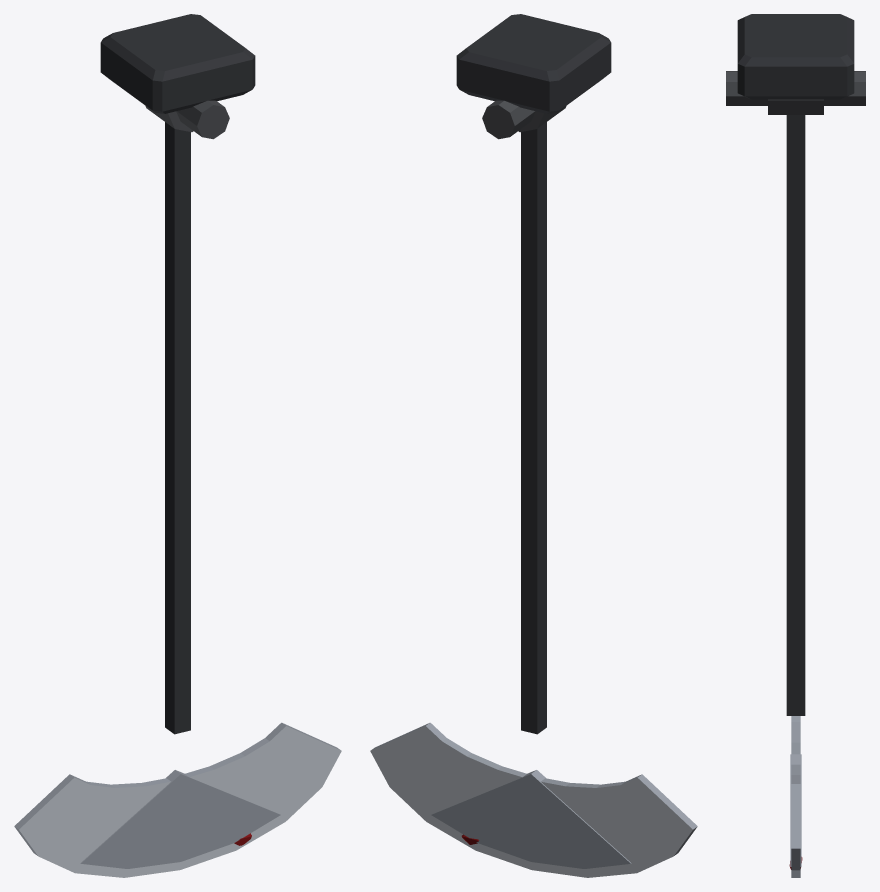
File: SM_Trap_Pendolo.glb
3 views of the same model, side by side, from view 1: azimuth 30°, elevation 25°; view 2: azimuth 150°, elevation 25°; view 3: azimuth 270°, elevation 25° (orthographic).
Parts seen in each view (by area): view 1: Pendulum_Arm, SM_Trap_Pendolo; view 2: Pendulum_Arm, SM_Trap_Pendolo; view 3: Pendulum_Arm, SM_Trap_Pendolo.
Part boxes in pixels (box(x1,y1,x2,y2)): Pendulum_Arm: box(14, 106, 341, 877); SM_Trap_Pendolo: box(100, 14, 255, 139); Pendulum_Arm: box(370, 106, 697, 877); SM_Trap_Pendolo: box(456, 14, 611, 139); Pendulum_Arm: box(768, 99, 823, 877); SM_Trap_Pendolo: box(726, 14, 865, 105).
Bounding box in the file's own units: 1.58 × 3.85 × 0.6.
Materials: 1 (1 with a texture image).
